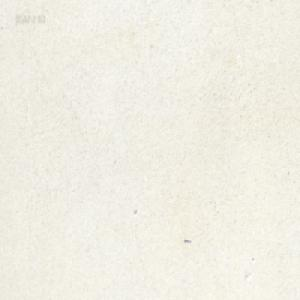Nail: (184, 237, 191, 243)
